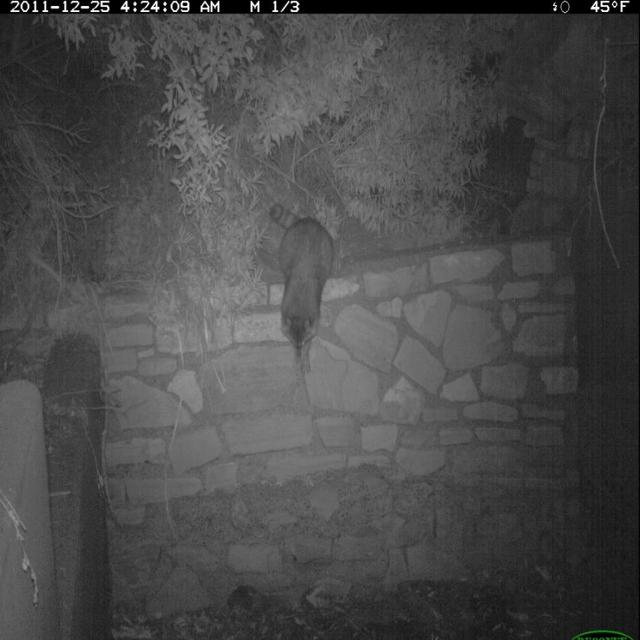raccoon: (255, 180, 352, 387)
